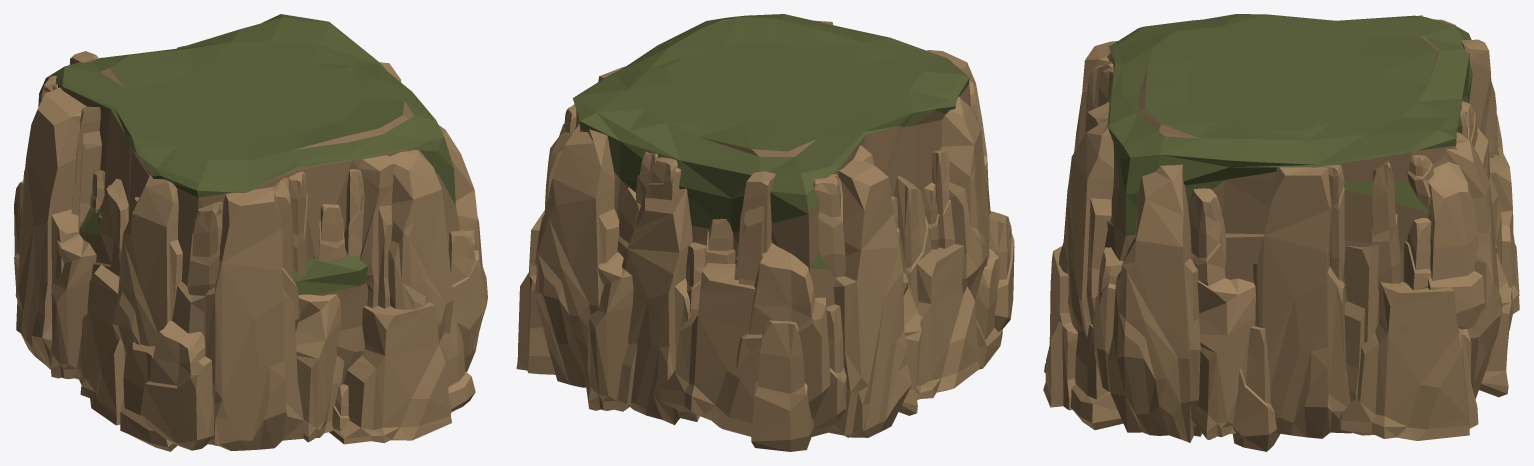
File: SM_Env_Cliff_02.gltf
3 renders of one model, left to right at view 1: azimuth 30°, elevation 25°; view 2: azimuth 150°, elevation 25°; view 3: azimuth 270°, elevation 25°, orthographic. The views are drawn at different scales.
Parts seen in each view (by area): view 1: SM_Env_Cliff_02; view 2: SM_Env_Cliff_02; view 3: SM_Env_Cliff_02.
Boxes of the visible parts, bbox=[...] form: SM_Env_Cliff_02: bbox=[14, 14, 487, 451]; SM_Env_Cliff_02: bbox=[516, 14, 1014, 451]; SM_Env_Cliff_02: bbox=[1043, 14, 1519, 451].
Size of the model in its own units: 18.28 by 13.9 by 20.35.
Materials: 1 (1 with a texture image).
